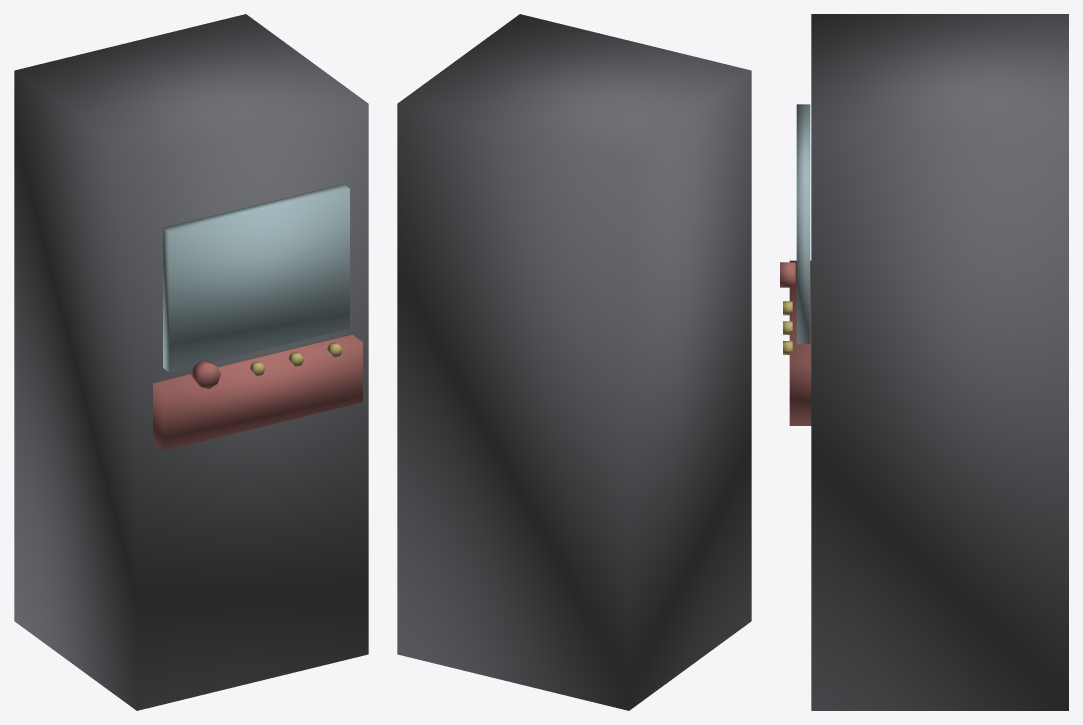
The model's file is arcade_cabinet__reinforced.glb.
3 views of the same model, side by side, from view 1: azimuth 30°, elevation 25°; view 2: azimuth 150°, elevation 25°; view 3: azimuth 270°, elevation 25° (orthographic). The views are drawn at different scales.
Parts seen in each view (by area): view 1: world; view 2: world; view 3: world.
Part boxes in pixels (bbox=[...]): world: bbox=[14, 14, 368, 710]; world: bbox=[397, 14, 751, 710]; world: bbox=[780, 14, 1068, 710].
Size of the model in its own units: 0.7416 by 1.68 by 0.7622.
